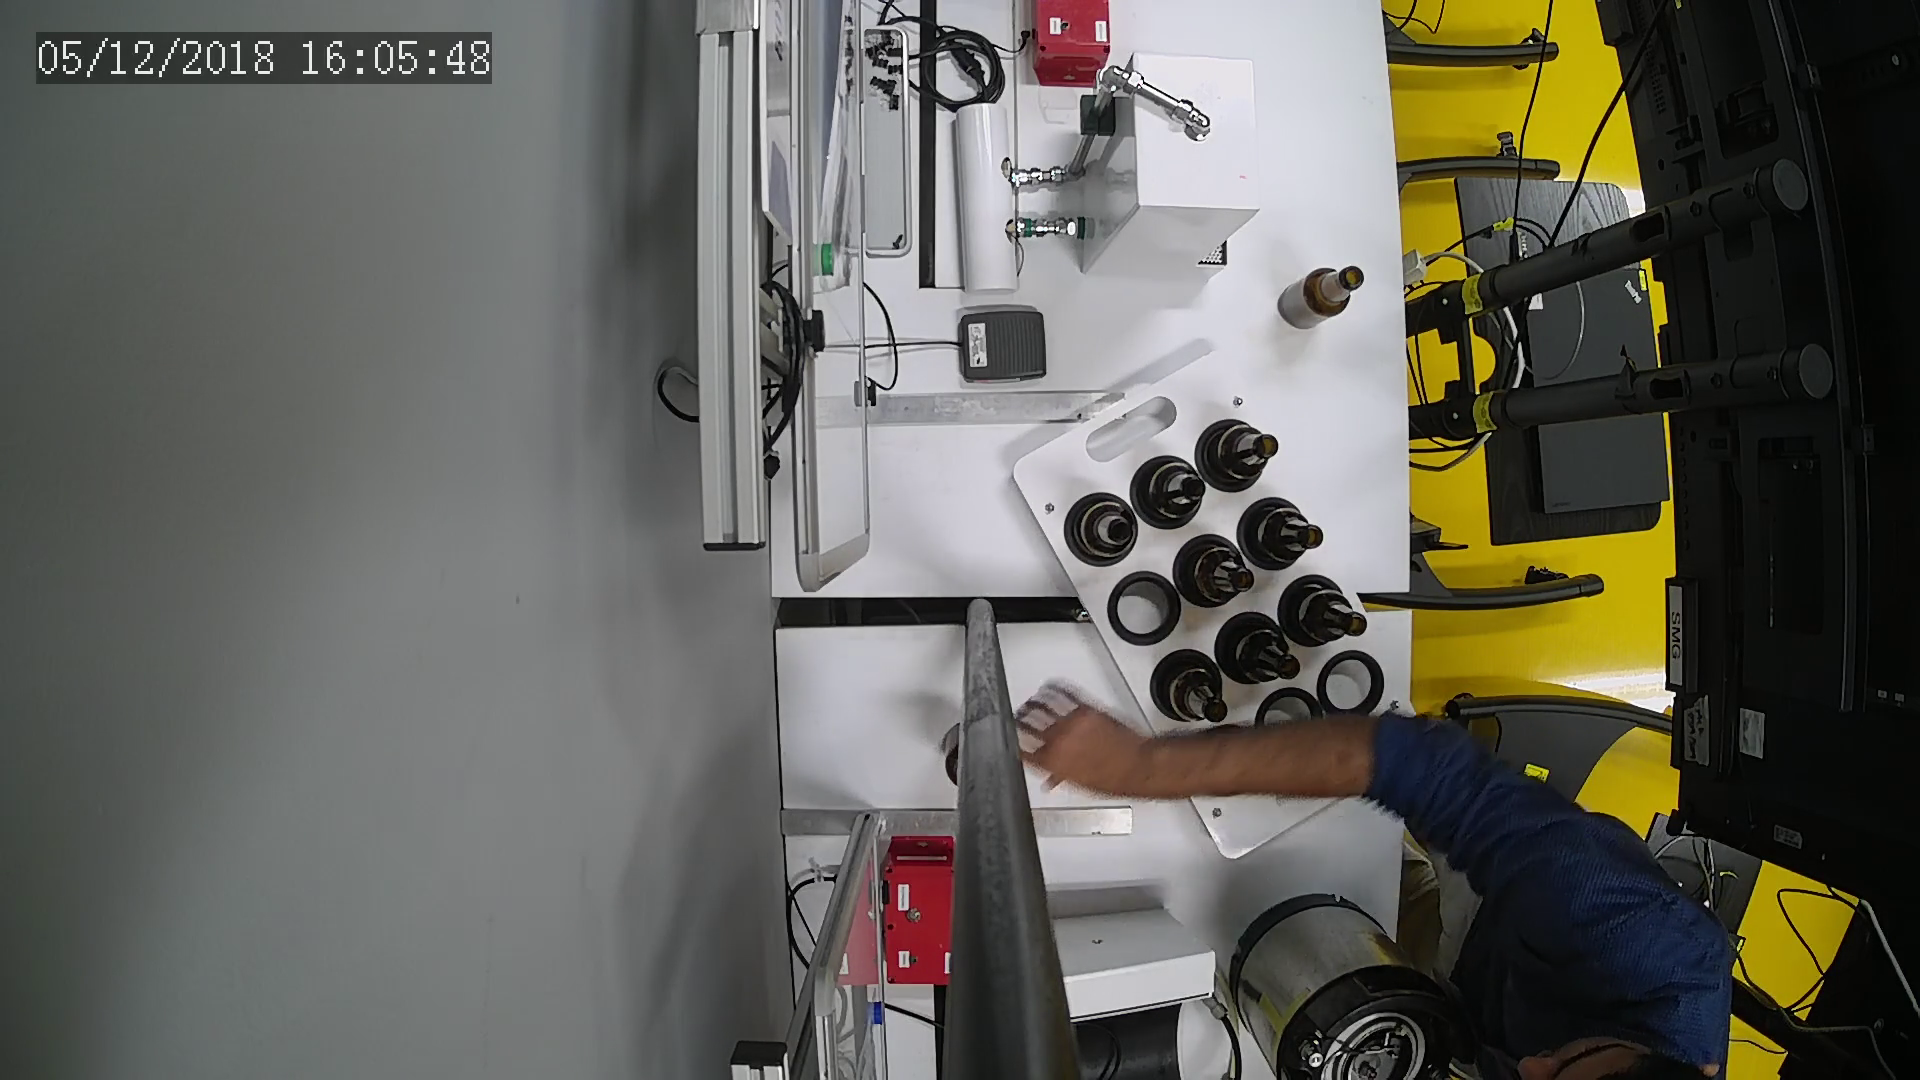filled_bottle: (1151, 649, 1236, 732), (1283, 574, 1367, 651), (1216, 615, 1304, 688), (1133, 459, 1215, 534), (1064, 493, 1143, 568), (1199, 418, 1279, 491), (1178, 535, 1255, 609), (1247, 498, 1327, 570)
trolley: (1010, 353, 1433, 866)
unfilled_bottle: (1276, 265, 1370, 330)
